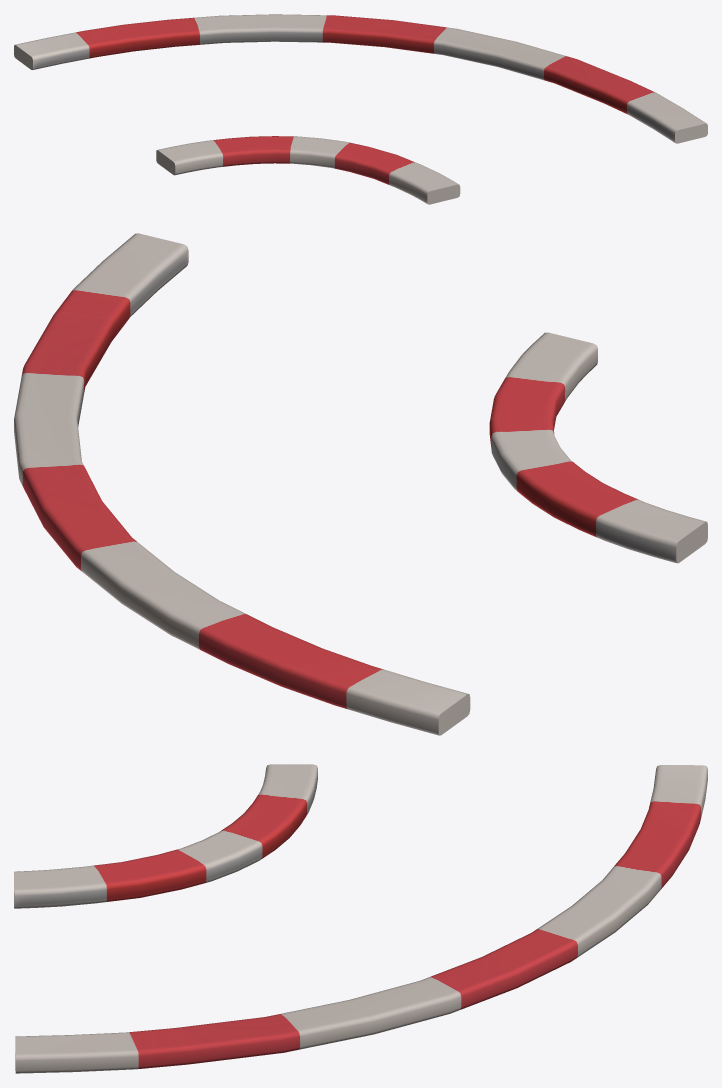
The model's file is Road_Corner_Out.fbx.
The picture shows the model from 3 angles, top to bottom: view 1: azimuth 30°, elevation 25°; view 2: azimuth 150°, elevation 25°; view 3: azimuth 270°, elevation 25°; orthographic projection. The views are drawn at different scales.
Visible parts, largest first — view 1: Road_Corner_Out; view 2: Road_Corner_Out; view 3: Road_Corner_Out.
Part boxes in pixels (left/top/right/bottom): Road_Corner_Out: left=14, top=14, right=707, bottom=204; Road_Corner_Out: left=14, top=233, right=707, bottom=735; Road_Corner_Out: left=14, top=764, right=707, bottom=1073.
Size of the model in its own units: 1099 by 31.69 by 1102.
